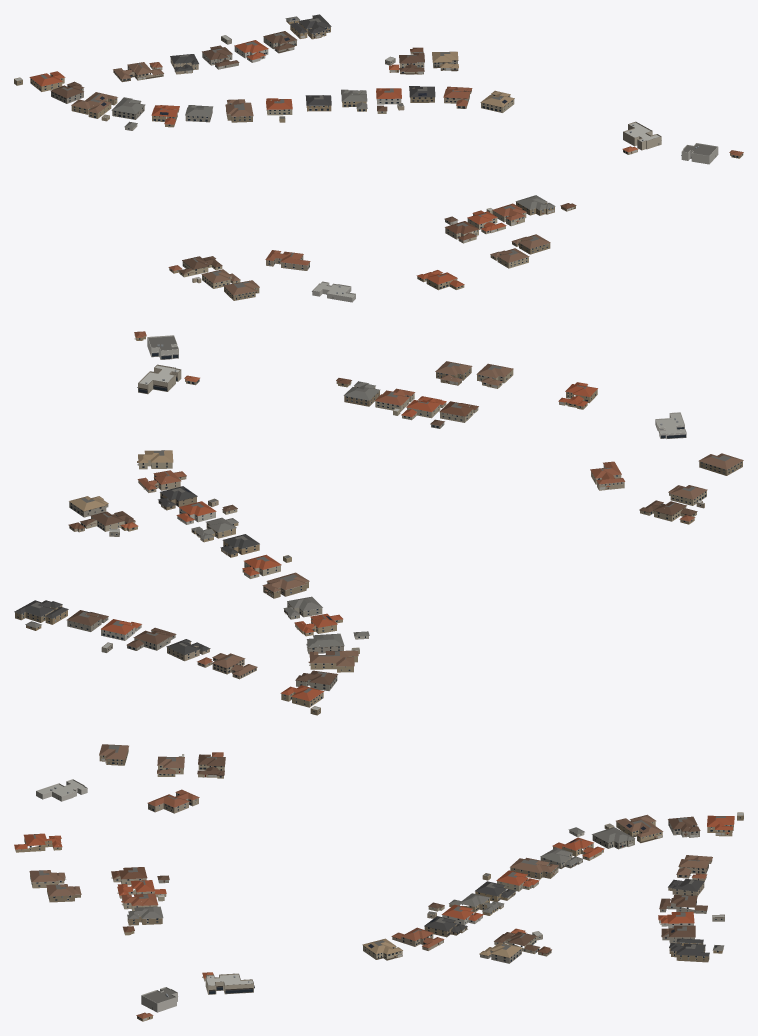
3 views of the same model, one above another, from view 1: azimuth 30°, elevation 25°; view 2: azimuth 150°, elevation 25°; view 3: azimuth 270°, elevation 25° (orthographic). The views are drawn at different scales.
Parts seen in each view (by area): view 1: buildings_r6_c3_lod0; view 2: buildings_r6_c3_lod0; view 3: buildings_r6_c3_lod0.
Part boxes in pixels (x1=…): buildings_r6_c3_lod0: x1=14, y1=14, x2=743, y2=302; buildings_r6_c3_lod0: x1=14, y1=331, x2=743, y2=715; buildings_r6_c3_lod0: x1=14, y1=744, x2=743, y2=1021.
Size of the model in its own units: 605 by 37.77 by 668.
